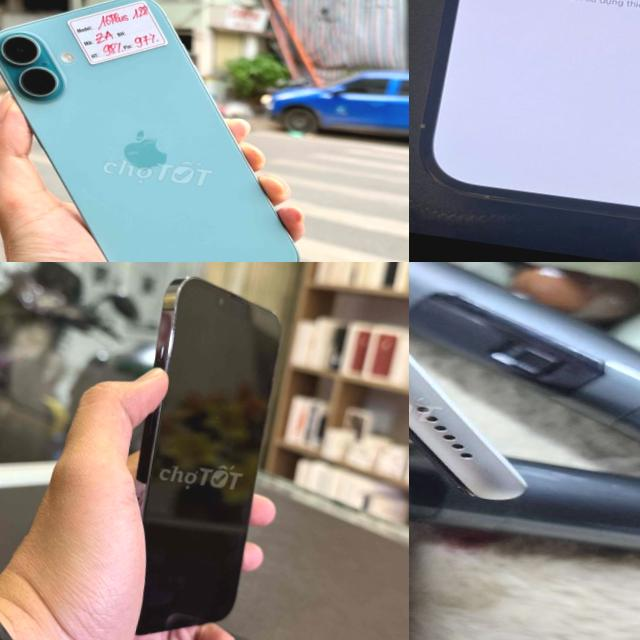gen_11: (409, 354, 525, 500)
gen_12_13: (101, 271, 293, 640)
gen_14: (409, 0, 640, 262)
gen_16: (0, 0, 298, 262)
